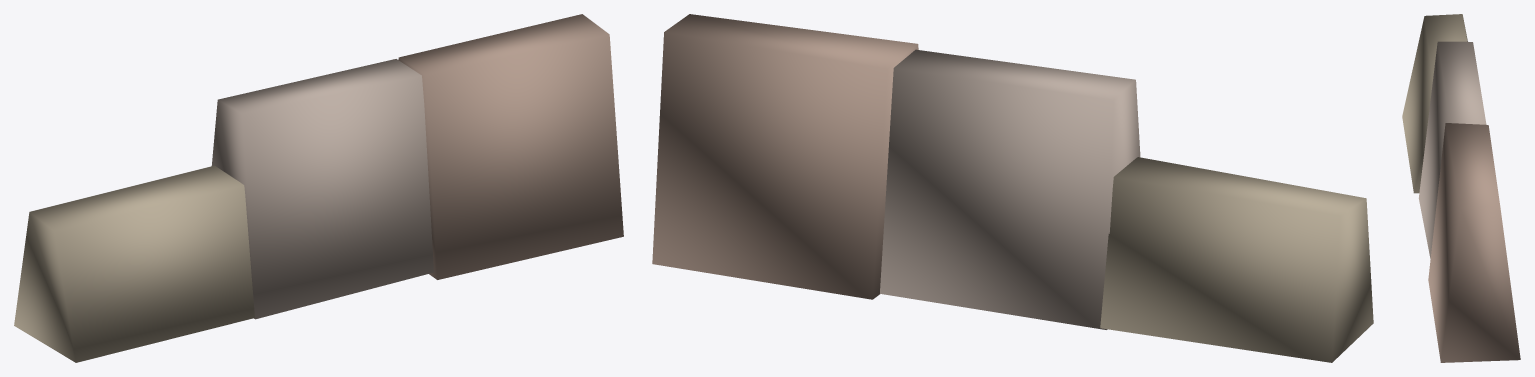
The model's file is farm_-2_5_far.glb.
The picture shows the model from 3 angles, left to right: view 1: azimuth 30°, elevation 25°; view 2: azimuth 150°, elevation 25°; view 3: azimuth 270°, elevation 25°; orthographic projection. The views are drawn at different scales.
Parts seen in each view (by area): view 1: geometry_0; view 2: geometry_0; view 3: geometry_0.
Part boxes in pixels (x1,y1,x2,y2): geometry_0: [14, 14, 623, 362]; geometry_0: [652, 14, 1373, 362]; geometry_0: [1402, 14, 1520, 362].
Size of the model in its own units: 4.69 by 1.67 by 1.04.
